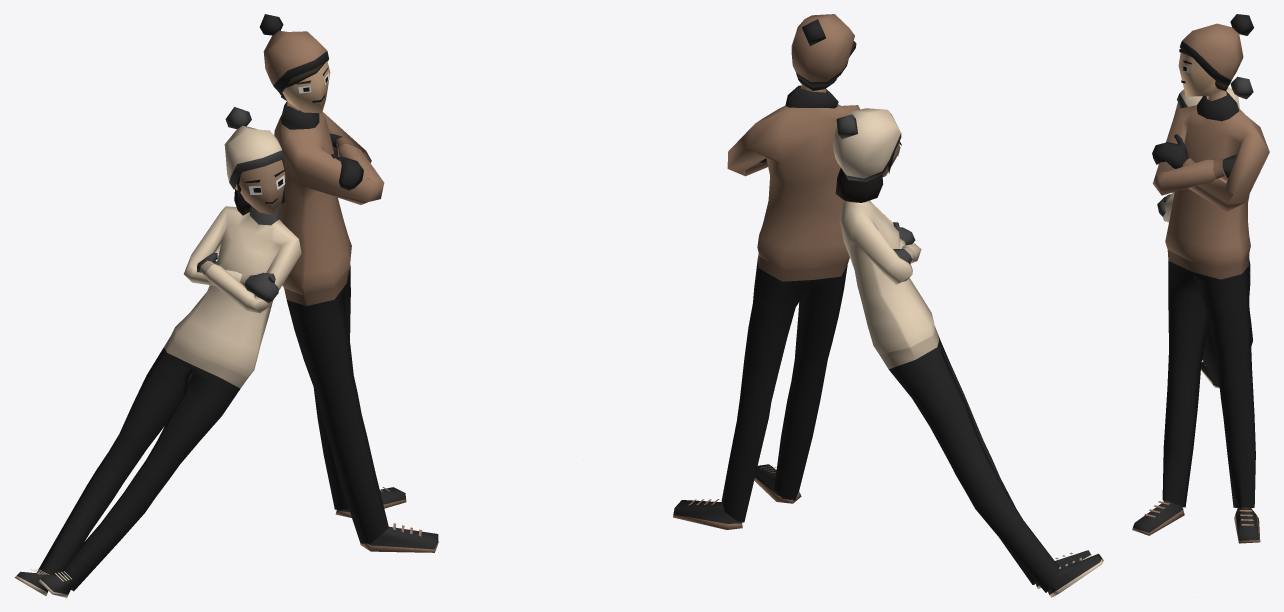
3 views of the same model, side by side, from view 1: azimuth 30°, elevation 25°; view 2: azimuth 150°, elevation 25°; view 3: azimuth 270°, elevation 25° (orthographic). The views are drawn at different scales.
Visible parts, largest first — view 1: 5.001, Cube.001; view 2: Cube.001, 5.001; view 3: Cube.001, 5.001.
Boxes of the visible parts, x1,y1,x2,y2 form: 5.001: (14,107,301,597); Cube.001: (259,14,438,552); Cube.001: (673,14,860,529); 5.001: (832,108,1103,597); Cube.001: (1132,14,1269,597); 5.001: (1157,76,1253,388).
Size of the model in its own units: 1.68 by 1.58 by 0.4186.
